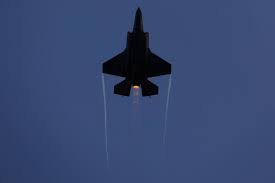fighter: (101, 5, 175, 101)
